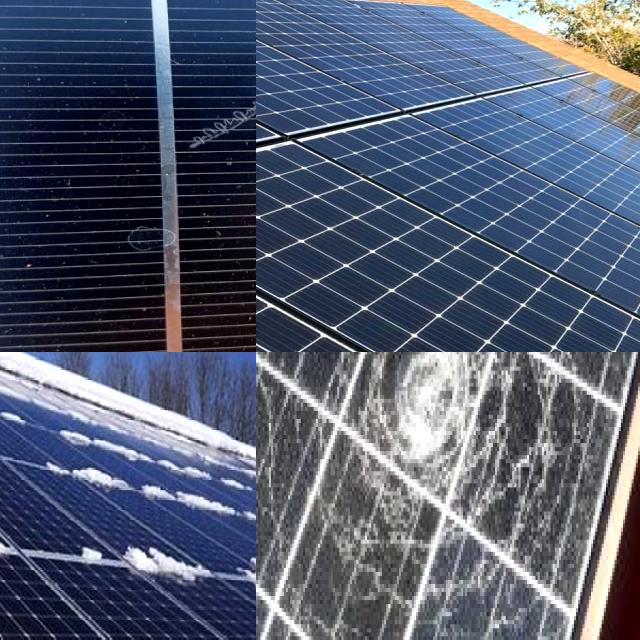crack: (267, 103, 640, 347), (256, 137, 640, 352), (256, 183, 640, 352), (391, 85, 640, 249), (267, 0, 554, 104), (256, 0, 498, 119), (256, 0, 435, 139)
hotspot: (371, 352, 490, 517), (505, 352, 592, 497), (348, 589, 520, 640), (528, 352, 616, 419)
panel: (57, 464, 256, 527), (0, 383, 142, 443), (121, 522, 220, 586), (0, 478, 68, 558), (0, 352, 107, 394), (0, 390, 41, 431), (0, 352, 46, 380), (0, 514, 28, 559), (237, 536, 256, 599), (0, 417, 31, 453), (86, 536, 109, 572)
